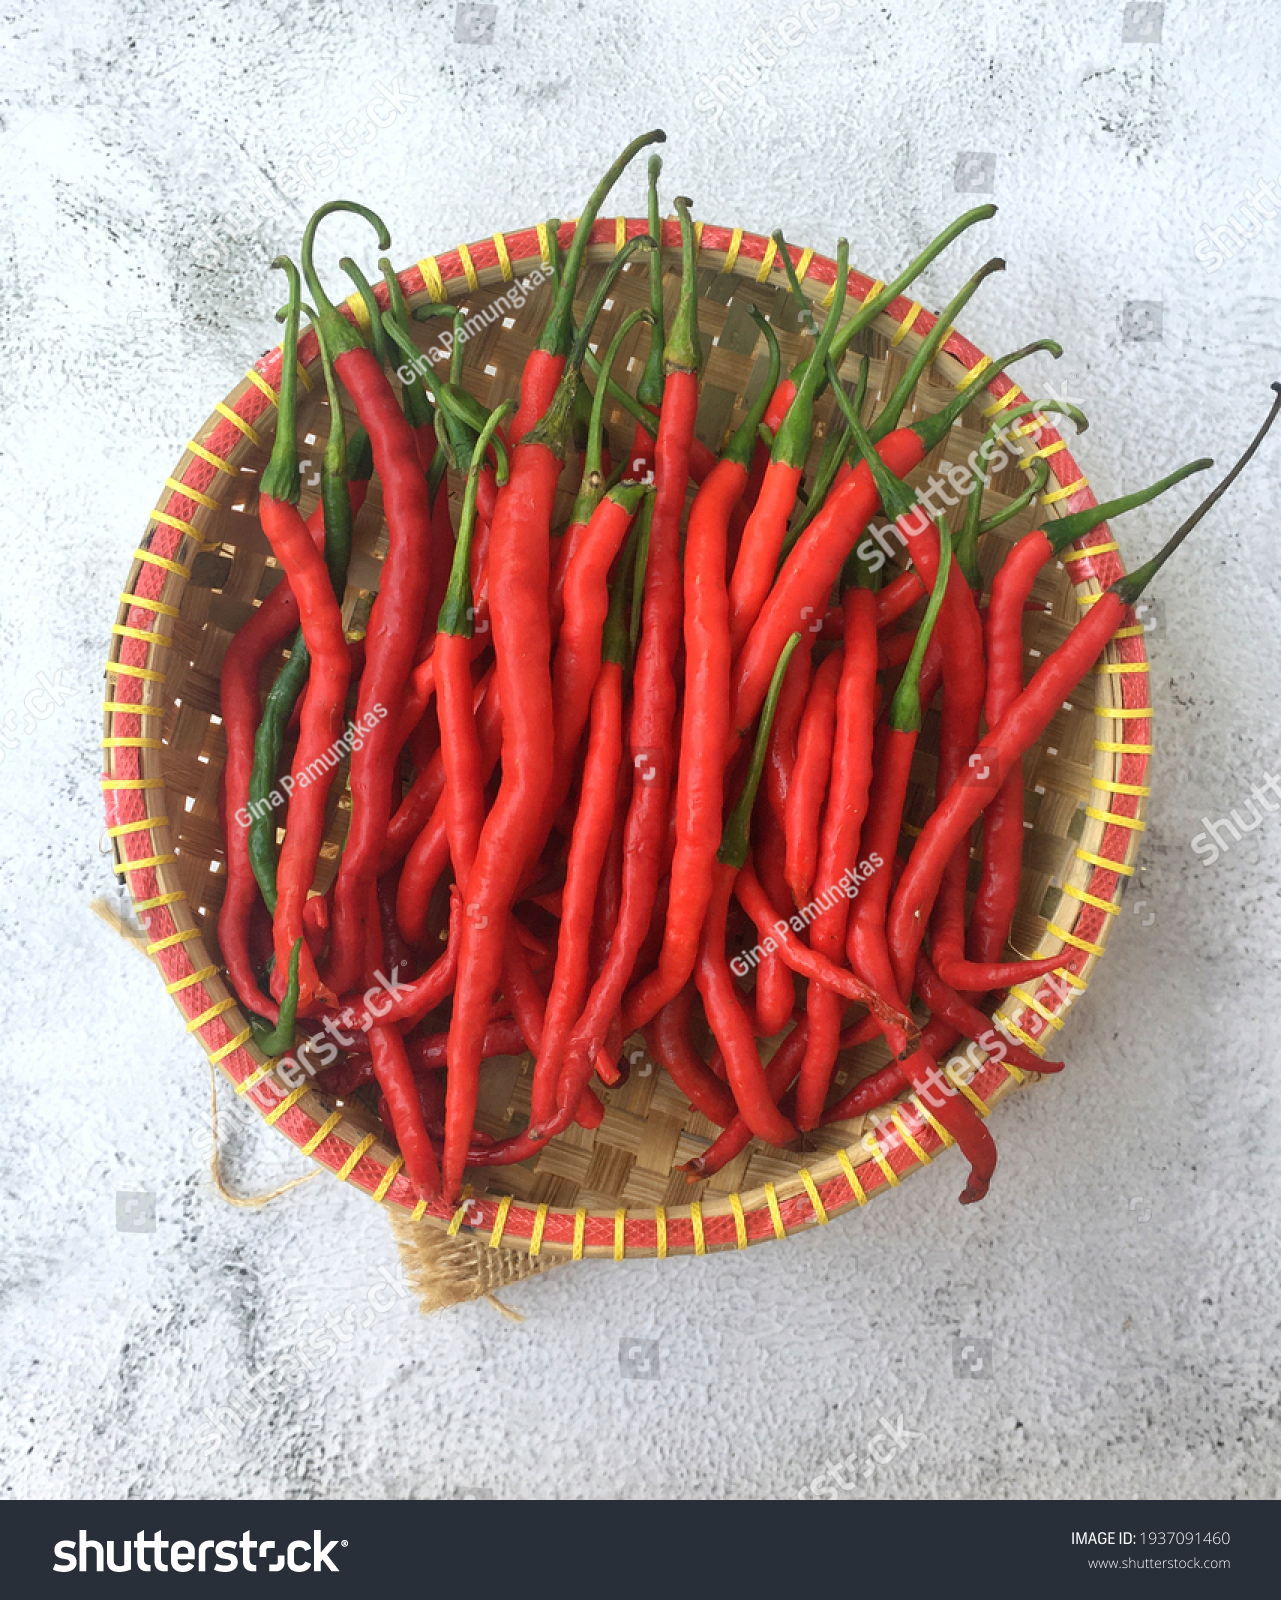Cabai: (170, 184, 1142, 1359)
